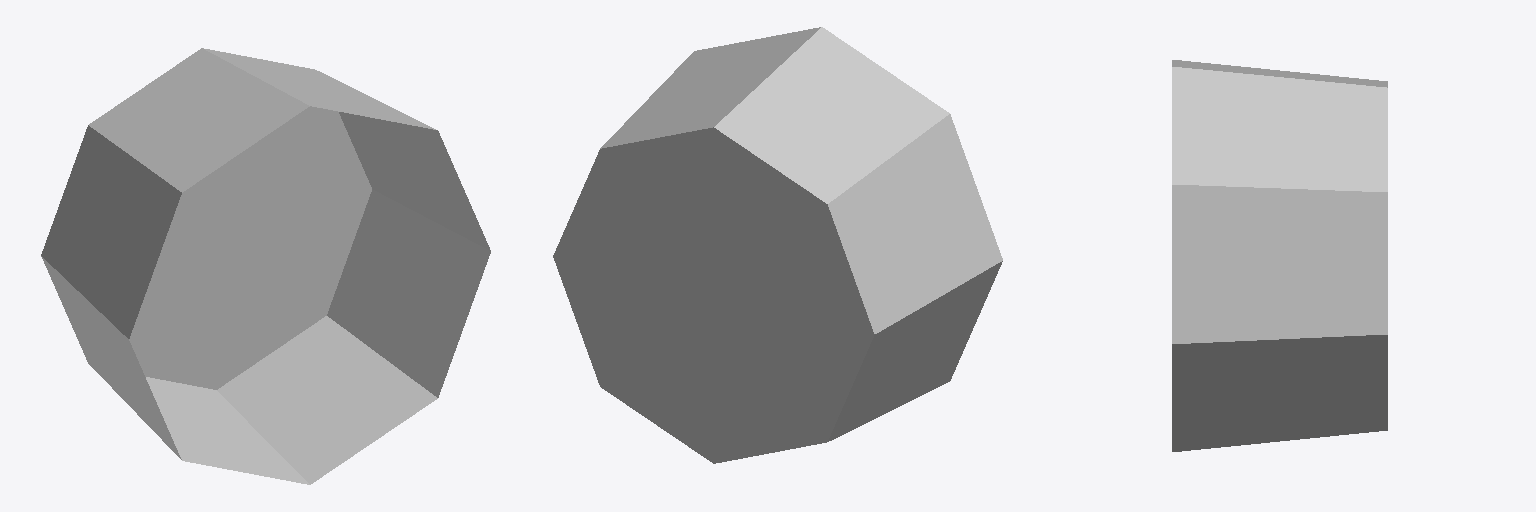
Rendered from Bottle_Cap.obj.
3 views of the same model, side by side, from view 1: azimuth 30°, elevation 25°; view 2: azimuth 150°, elevation 25°; view 3: azimuth 270°, elevation 25° (orthographic).
Visible parts, largest first — view 1: BottleCap; view 2: BottleCap; view 3: BottleCap.
Boxes of the visible parts, box(x1,y1,x2,y2) form: BottleCap: box(41, 48, 490, 484); BottleCap: box(553, 27, 1002, 463); BottleCap: box(1172, 60, 1387, 451).
Bounding box in the file's own units: 1.96 × 1.96 × 1.02.